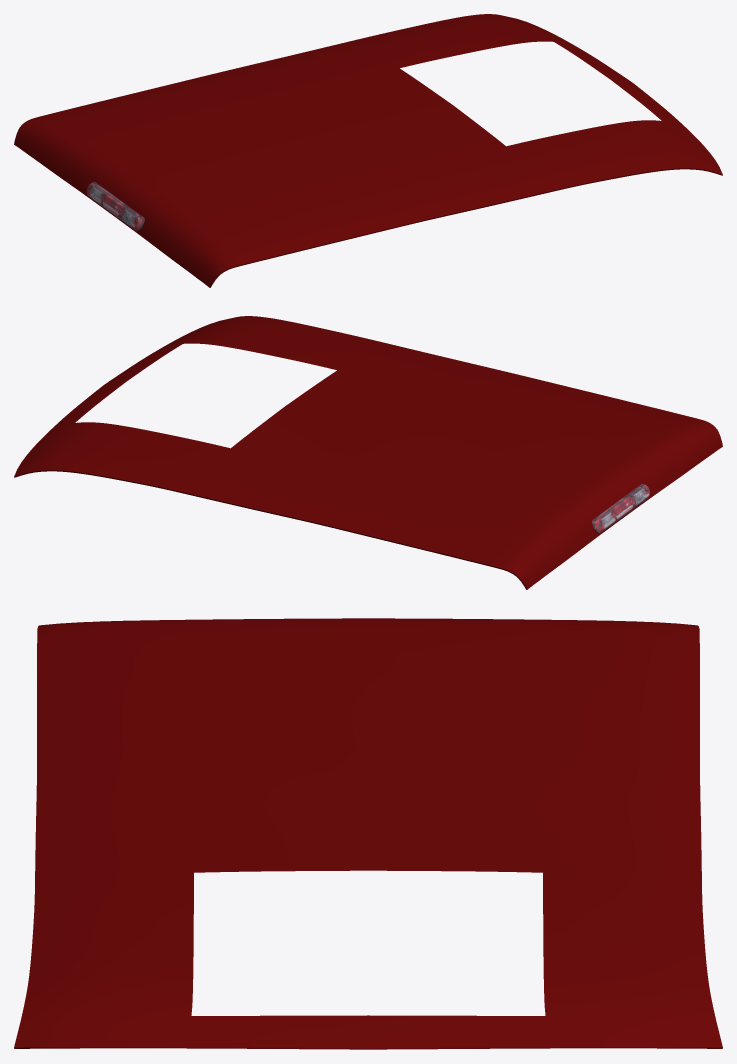
The picture shows the model from 3 angles, top to bottom: view 1: azimuth 30°, elevation 25°; view 2: azimuth 150°, elevation 25°; view 3: azimuth 270°, elevation 25°; orthographic projection. The views are drawn at different scales.
Parts seen in each view (by area): view 1: U805_4A_341B_C_1_DaS_U805_4A_341B_C, U805_4A_341B_C_U805_4A_341B_C_2_DTaSI, U805_4A_341B_C_U805_4A_341B_C_3_N, U805_4A_341B_C_1_DaS_U805_4A_341B_C_E; view 2: U805_4A_341B_C_1_DaS_U805_4A_341B_C, U805_4A_341B_C_U805_4A_341B_C_2_DTaSI, U805_4A_341B_C_U805_4A_341B_C_3_N, U805_4A_341B_C_1_DaS_U805_4A_341B_C_E; view 3: U805_4A_341B_C_1_DaS_U805_4A_341B_C, U805_4A_341B_C_1_DaS_U805_4A_341B_C_E.
Boxes of the visible parts, box(x1,y1,x2,y2) form: U805_4A_341B_C_1_DaS_U805_4A_341B_C: box(14, 14, 722, 287); U805_4A_341B_C_U805_4A_341B_C_2_DTaSI: box(86, 182, 144, 231); U805_4A_341B_C_U805_4A_341B_C_3_N: box(87, 182, 144, 231); U805_4A_341B_C_1_DaS_U805_4A_341B_C_E: box(209, 168, 722, 287); U805_4A_341B_C_1_DaS_U805_4A_341B_C: box(14, 316, 722, 589); U805_4A_341B_C_U805_4A_341B_C_2_DTaSI: box(592, 484, 650, 533); U805_4A_341B_C_U805_4A_341B_C_3_N: box(592, 484, 649, 533); U805_4A_341B_C_1_DaS_U805_4A_341B_C_E: box(14, 470, 527, 589); U805_4A_341B_C_1_DaS_U805_4A_341B_C: box(14, 618, 722, 1048); U805_4A_341B_C_1_DaS_U805_4A_341B_C_E: box(14, 1047, 722, 1049).
Bounding box in the file's own units: 158 × 9.11 × 113.
